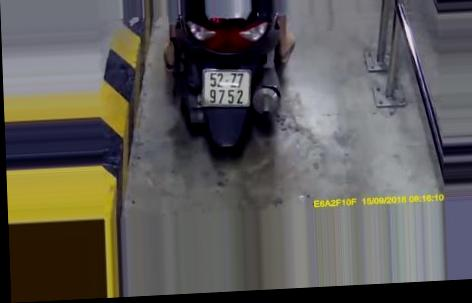License_Plate: (198, 62, 255, 112)
